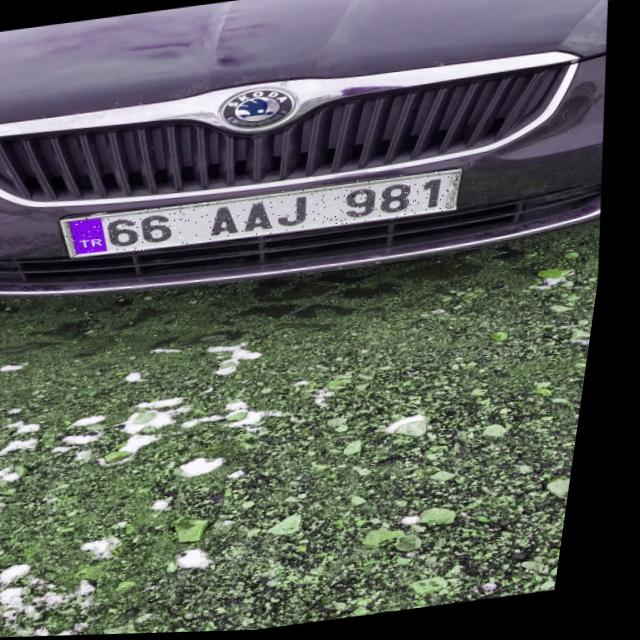license_plate: (65, 170, 467, 262)
